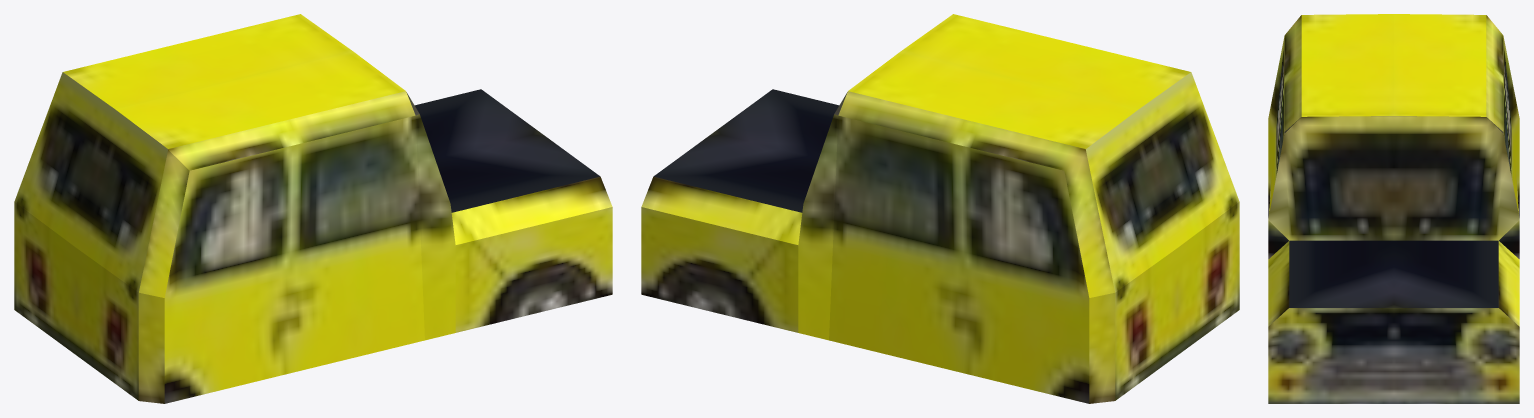
Rendered from player_car.obj.
The picture shows the model from 3 angles, left to right: view 1: azimuth 30°, elevation 25°; view 2: azimuth 150°, elevation 25°; view 3: azimuth 270°, elevation 25°; orthographic projection. The views are drawn at different scales.
Visible parts, largest first — view 1: Cube_Cube.001; view 2: Cube_Cube.001; view 3: Cube_Cube.001.
Part boxes in pixels (x1,y1,x2,y2): Cube_Cube.001: [14, 14, 612, 403]; Cube_Cube.001: [641, 14, 1239, 403]; Cube_Cube.001: [1268, 14, 1519, 403].
Bounding box in the file's own units: 8.88 × 4.33 × 4.75.
